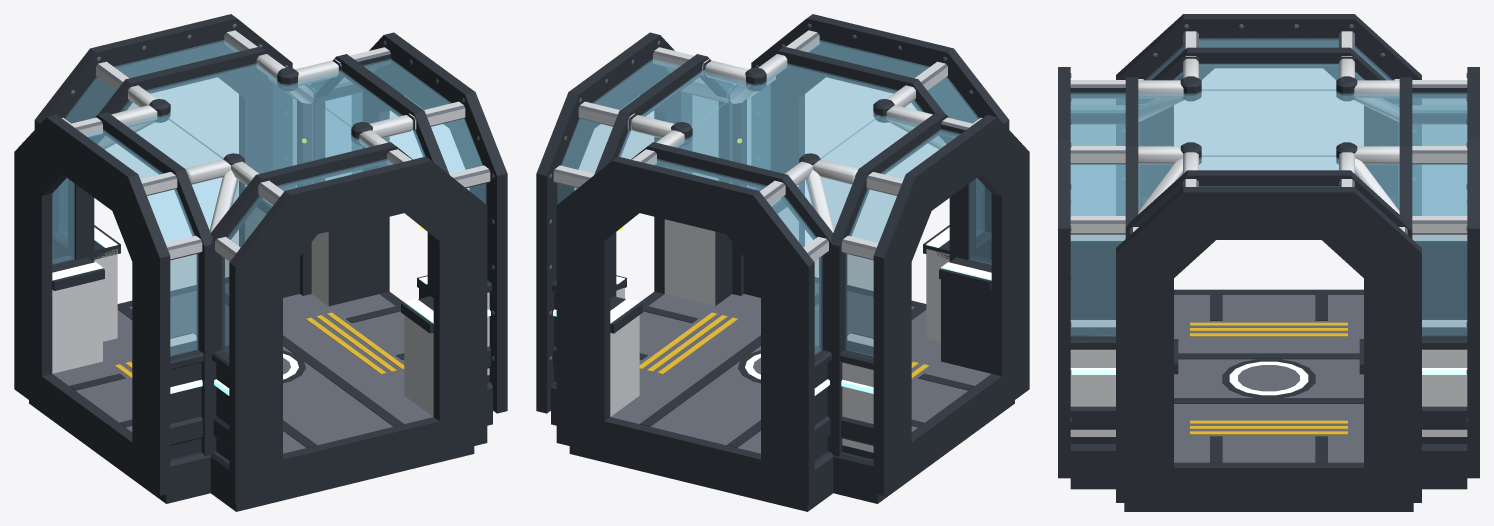
File: Tunnel_Cross.fbx
The picture shows the model from 3 angles, left to right: view 1: azimuth 30°, elevation 25°; view 2: azimuth 150°, elevation 25°; view 3: azimuth 270°, elevation 25°; orthographic projection. The views are drawn at different scales.
Parts seen in each view (by area): view 1: Tunnel_Cross_Body; view 2: Tunnel_Cross_Body; view 3: Tunnel_Cross_Body.
Part boxes in pixels (x1,y1,x2,y2): Tunnel_Cross_Body: (14, 14, 507, 511); Tunnel_Cross_Body: (536, 14, 1029, 511); Tunnel_Cross_Body: (1058, 14, 1479, 511).
Bounding box in the file's own units: 4 × 3.4 × 4.
